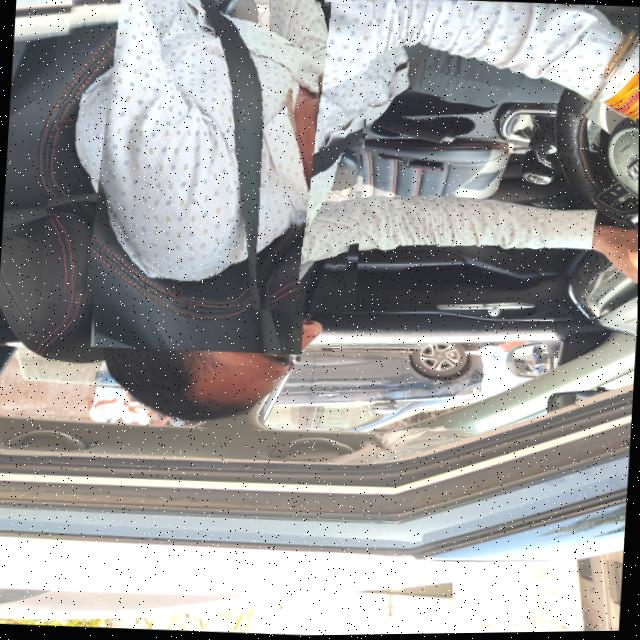seatbelt: (41, 0, 373, 318)
